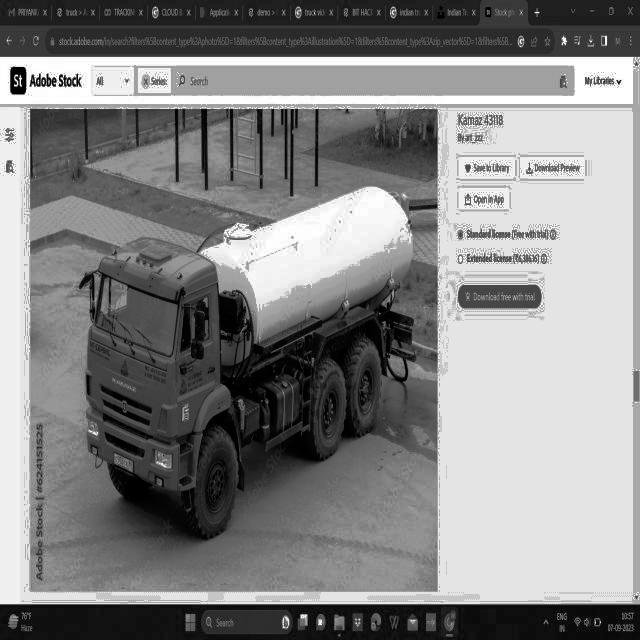HCV: (78, 183, 424, 553)
